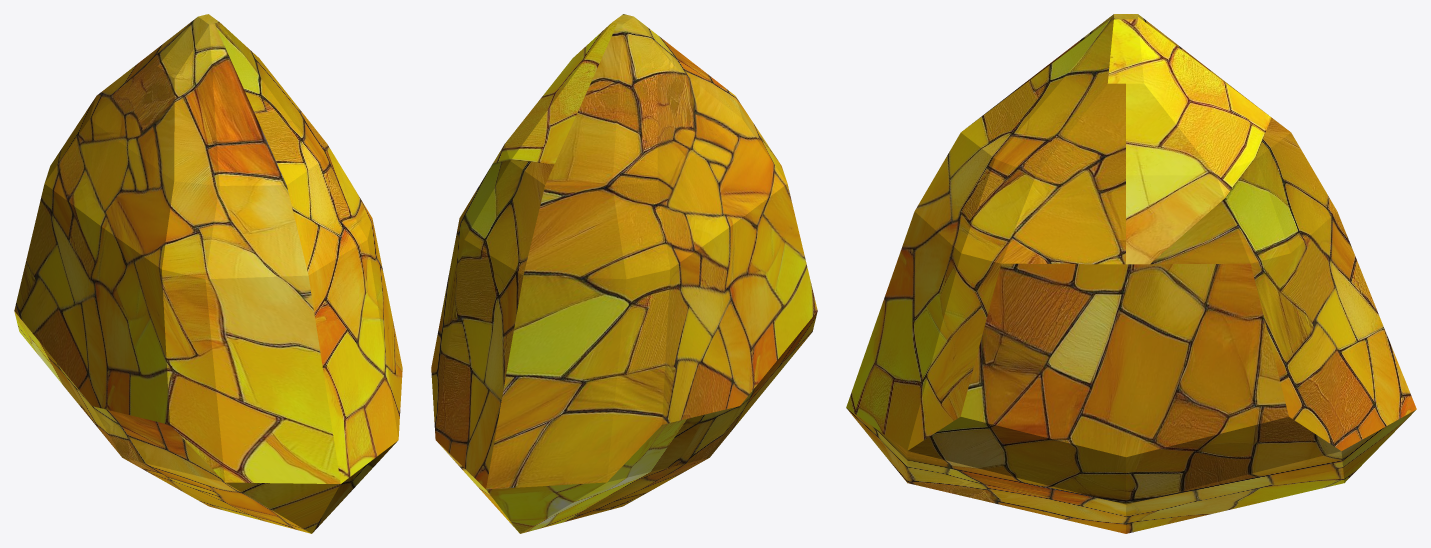
Rendered from gemstone5YellowCompressed.glb.
3 renders of one model, left to right at view 1: azimuth 30°, elevation 25°; view 2: azimuth 150°, elevation 25°; view 3: azimuth 270°, elevation 25°, orthographic. The views are drawn at different scales.
Visible parts, largest first — view 1: gemstone4; view 2: gemstone4; view 3: gemstone4.
Part boxes in pixels (x1,y1,x2,y2): gemstone4: (14, 14, 402, 533); gemstone4: (431, 14, 817, 533); gemstone4: (846, 14, 1416, 533).
Size of the model in its own units: 0.5 by 1 by 1.
Materials: 1 (1 with a texture image).
